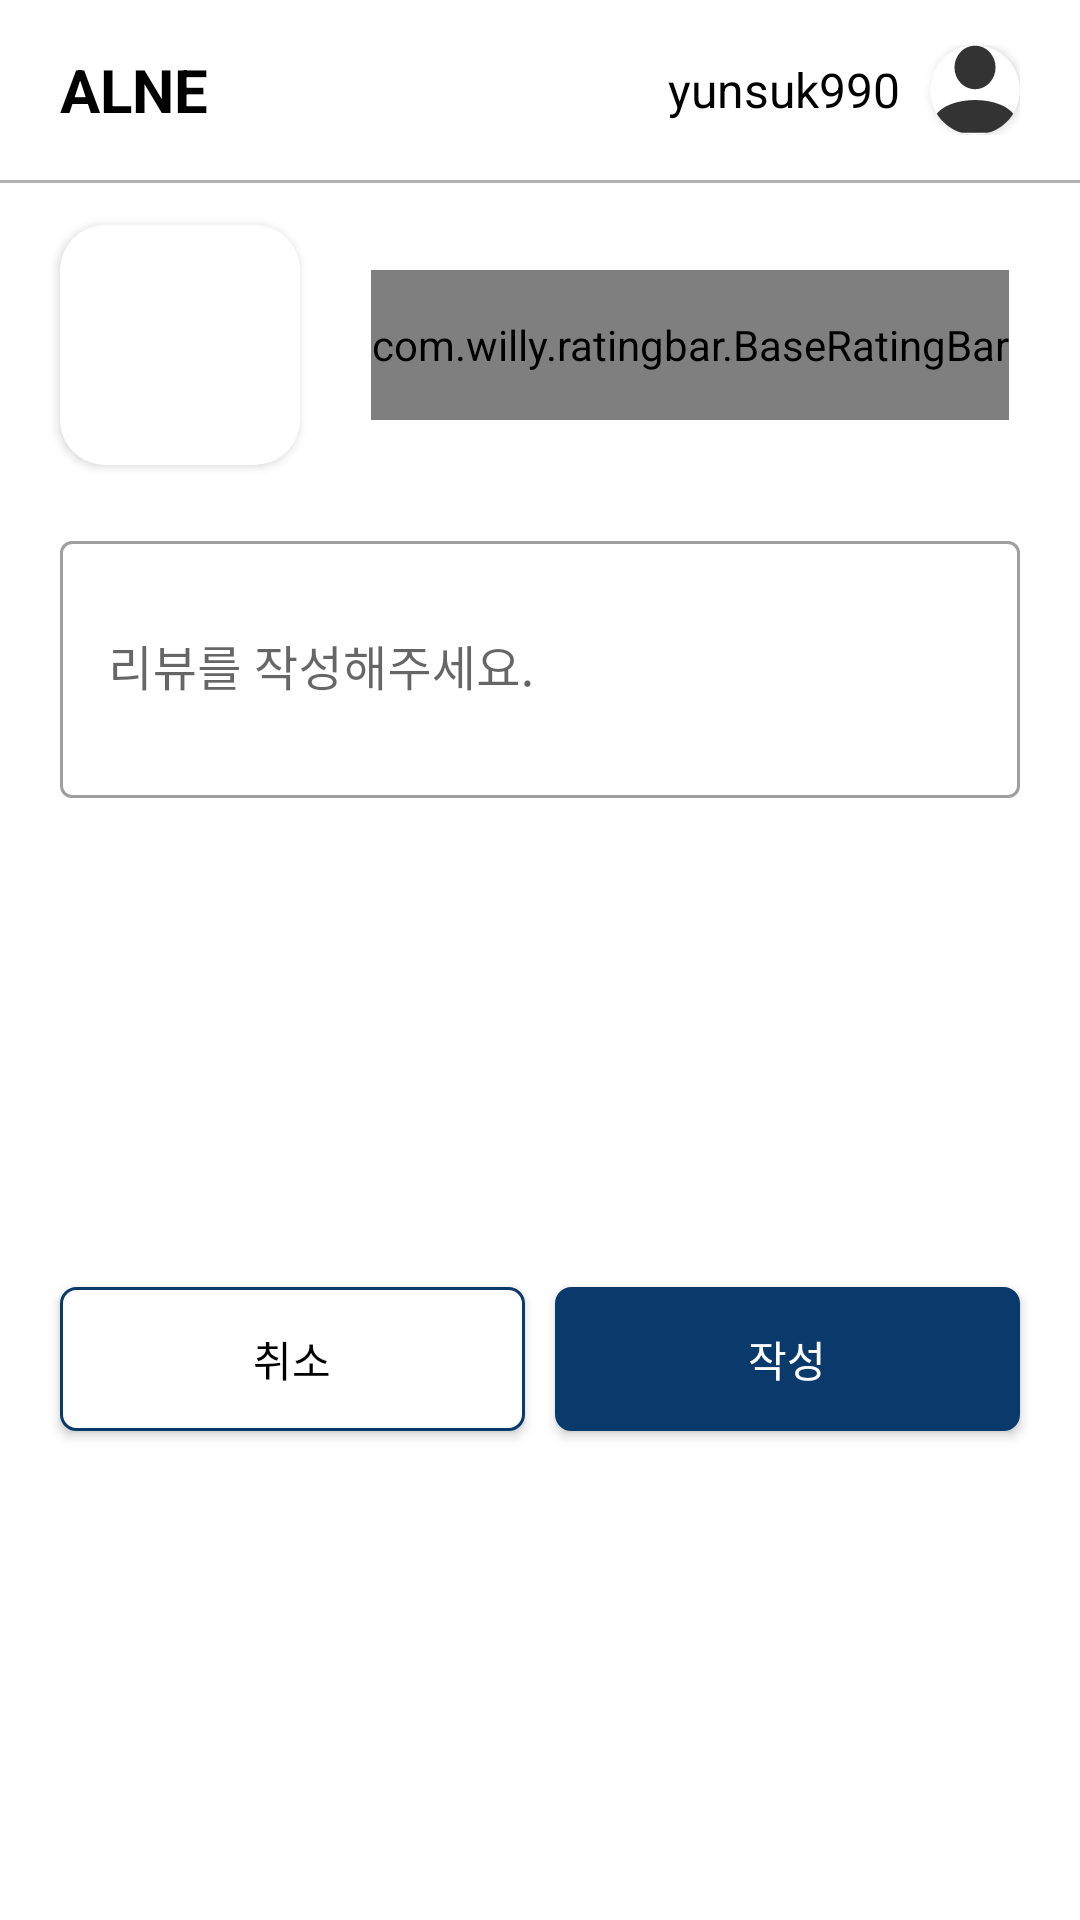

Where to tap for icons on this 1080 × 1920 app screen, as (x,y):
user: (978,89)
